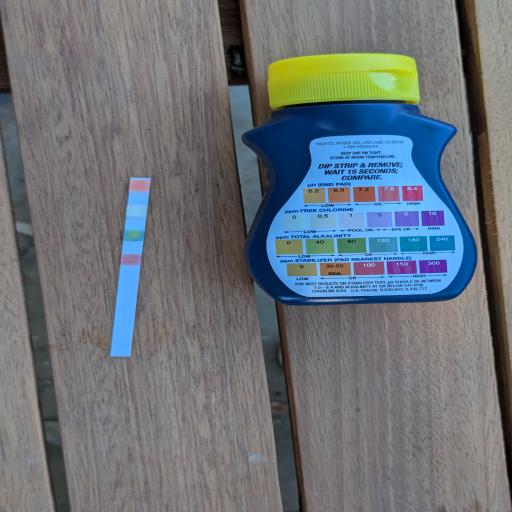label: (263, 128, 476, 301)
strip: (110, 178, 152, 357)
